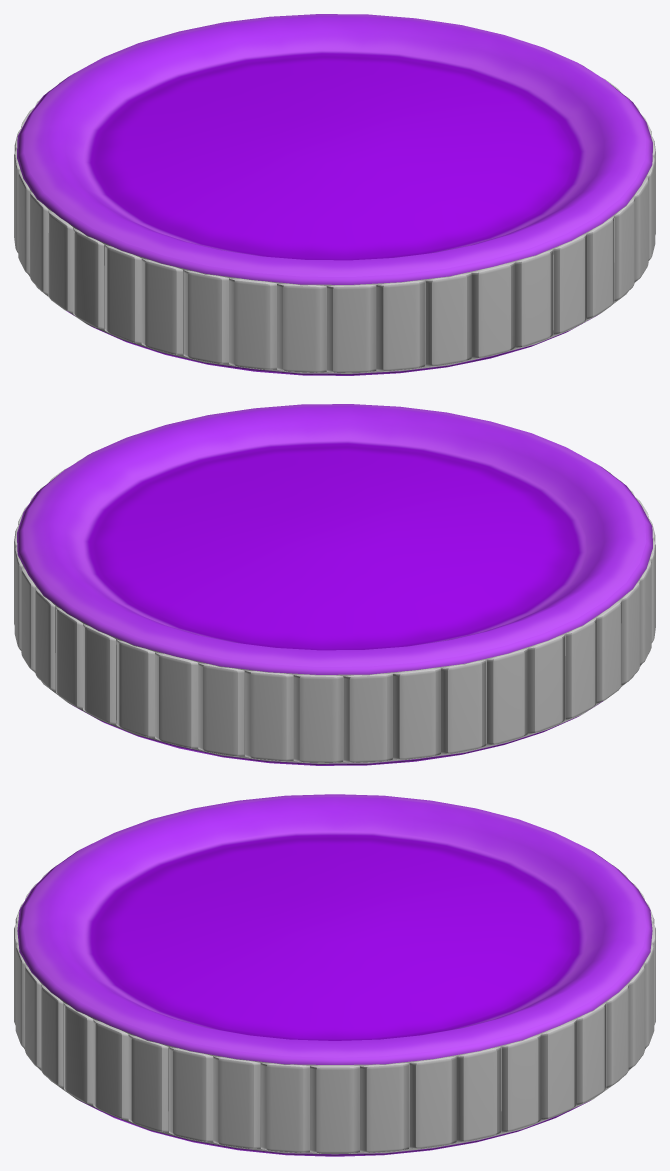
Rendered from Coin.fbx.
3 renders of one model, top to bottom at view 1: azimuth 30°, elevation 25°; view 2: azimuth 150°, elevation 25°; view 3: azimuth 270°, elevation 25°, orthographic.
Visible parts, largest first — view 1: coin4; view 2: coin4; view 3: coin4.
Boxes of the visible parts, box(x1,y1,x2,y2) form: coin4: box(14, 14, 655, 375); coin4: box(14, 404, 655, 765); coin4: box(14, 794, 655, 1156).
Bounding box in the file's own units: 0.0201 × 0.00399 × 0.0201.
